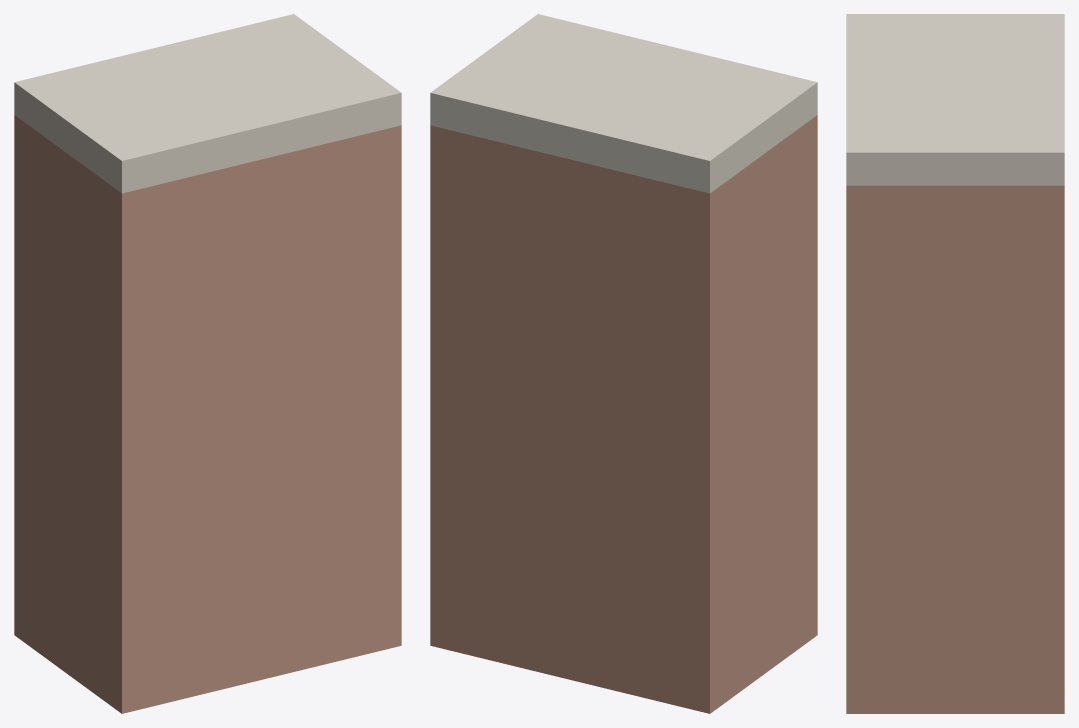
File: roof_chimney_brick.glb
3 renders of one model, left to right at view 1: azimuth 30°, elevation 25°; view 2: azimuth 150°, elevation 25°; view 3: azimuth 270°, elevation 25°, orthographic.
Parts seen in each view (by area): view 1: roof_chimney_brick; view 2: roof_chimney_brick; view 3: roof_chimney_brick.
Part boxes in pixels (left/top/right/bottom): roof_chimney_brick: left=14, top=14, right=401, bottom=713; roof_chimney_brick: left=430, top=14, right=817, bottom=713; roof_chimney_brick: left=846, top=14, right=1064, bottom=713.
Size of what is drawn, in the model's own units: 0.9 by 1.7 by 0.6.
